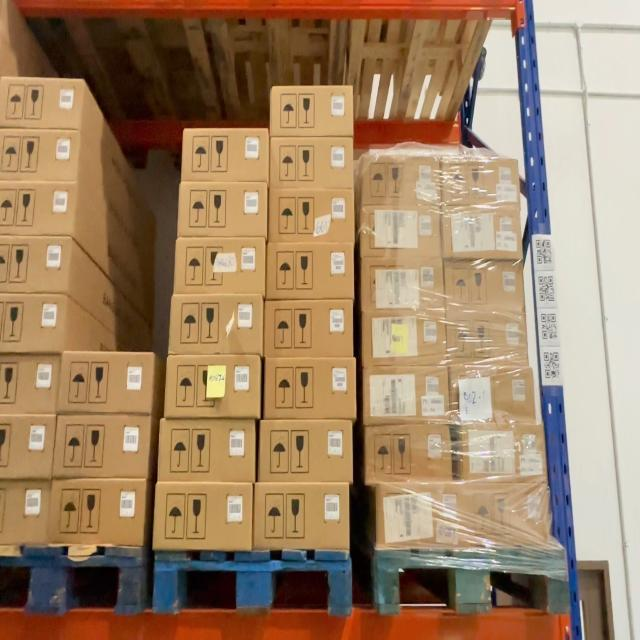box: (258, 419, 358, 483), (51, 479, 147, 544), (253, 484, 350, 548), (156, 484, 252, 548), (60, 350, 153, 414), (57, 415, 150, 478), (166, 357, 261, 418), (160, 420, 256, 480), (463, 480, 549, 545), (266, 359, 357, 419), (172, 294, 264, 352), (175, 238, 266, 295), (178, 181, 270, 237), (367, 422, 452, 482), (380, 484, 460, 547), (270, 245, 354, 300), (453, 368, 538, 422), (266, 302, 354, 354), (363, 256, 444, 312), (184, 129, 269, 182), (463, 424, 544, 479), (365, 368, 450, 420), (270, 191, 355, 242), (364, 313, 446, 365), (271, 138, 355, 188), (273, 87, 355, 138), (362, 156, 444, 207), (1, 129, 79, 181), (2, 79, 84, 128), (447, 260, 524, 312), (363, 206, 441, 257), (443, 207, 521, 257), (449, 314, 529, 362), (0, 292, 65, 351), (0, 183, 72, 236), (0, 236, 69, 291), (446, 159, 520, 206), (0, 354, 58, 413), (0, 414, 53, 477), (0, 480, 50, 543)
